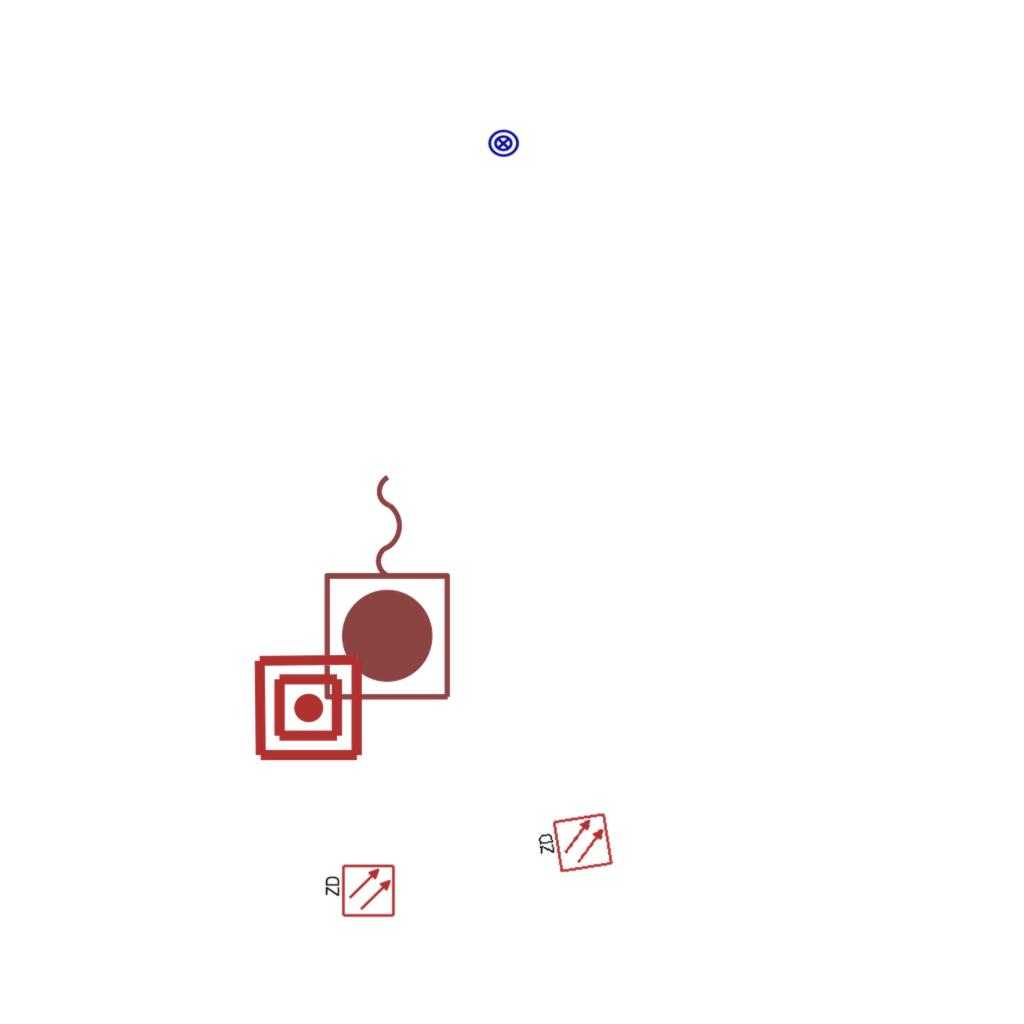NAM-Nichtautomatischer_Melder: (252, 651, 365, 764)
Taster_beleuchtet: (487, 127, 520, 160)
ZD_Melder_in_Zwischendecke_mit_Revisionsoeffnung_mind_40_x_40_cm: (532, 811, 615, 879), (322, 863, 396, 920)
Zugtaster: (317, 464, 461, 708)
